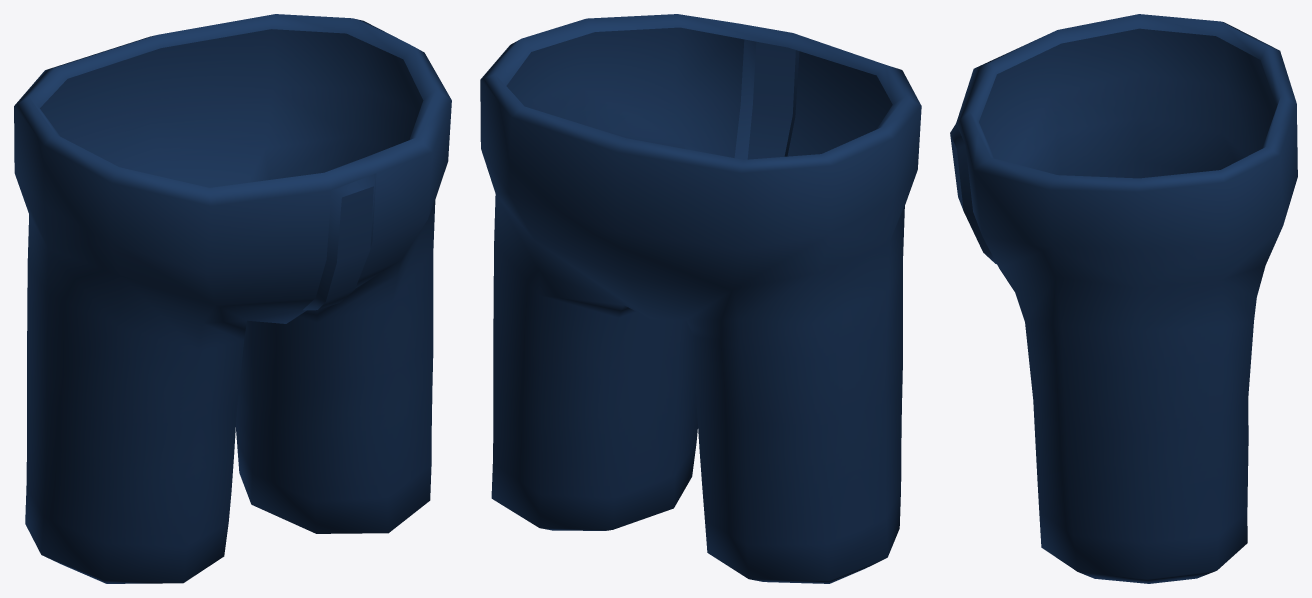
The model's file is Bottom_25.fbx.
3 views of the same model, side by side, from view 1: azimuth 30°, elevation 25°; view 2: azimuth 150°, elevation 25°; view 3: azimuth 270°, elevation 25° (orthographic). The views are drawn at different scales.
Parts seen in each view (by area): view 1: Bottom_25; view 2: Bottom_25; view 3: Bottom_25.
Boxes of the visible parts, left/top/right/bottom form: Bottom_25: left=14, top=14, right=451, bottom=583; Bottom_25: left=480, top=14, right=921, bottom=583; Bottom_25: left=950, top=14, right=1297, bottom=583.
Bounding box in the file's own units: 37.99 × 42.06 × 31.97.
